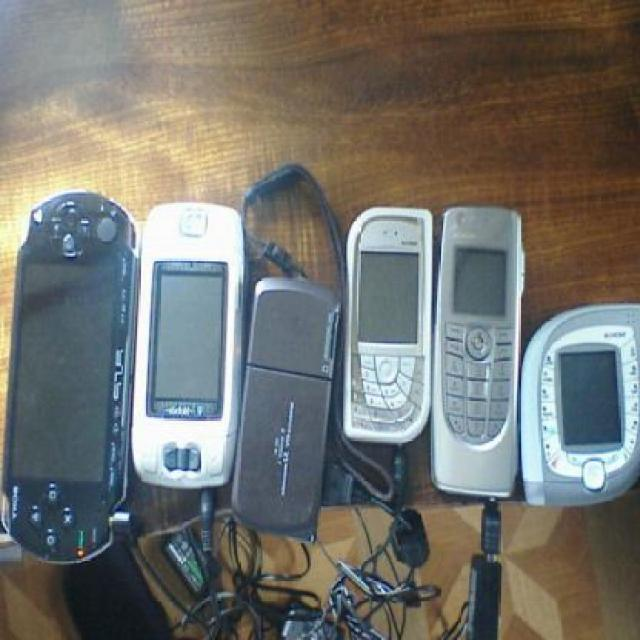phone: (9, 176, 138, 584), (428, 202, 526, 498), (343, 207, 435, 449)
